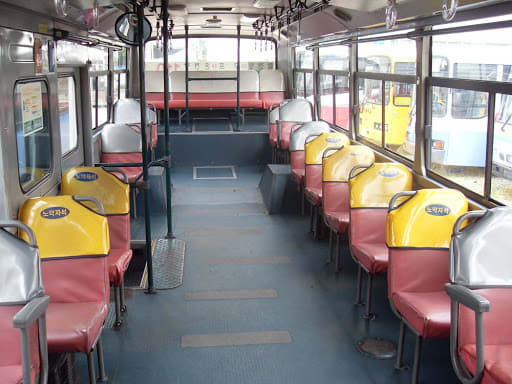seat: (385, 186, 472, 344)
